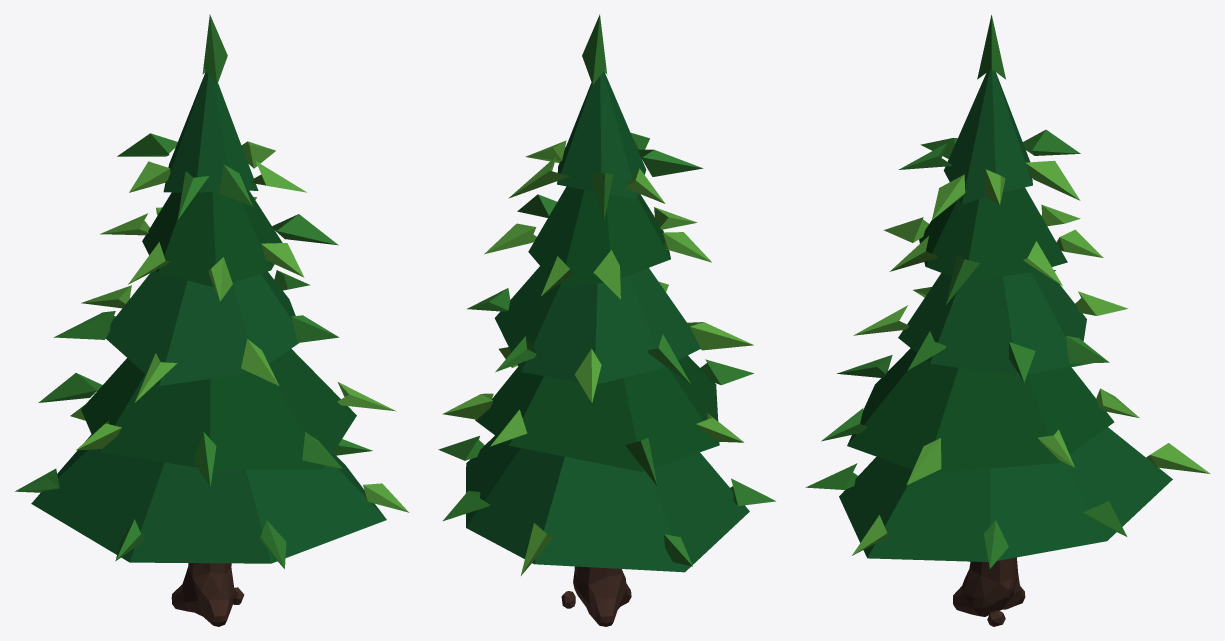
The model's file is pine_a.gltf.
3 renders of one model, left to right at view 1: azimuth 30°, elevation 25°; view 2: azimuth 150°, elevation 25°; view 3: azimuth 270°, elevation 25°, orthographic.
Visible parts, largest first — view 1: pine_a; view 2: pine_a; view 3: pine_a.
Boxes of the visible parts, <box> form: pine_a: <box>15,14,409,626</box>; pine_a: <box>438,14,775,626</box>; pine_a: <box>805,15,1210,626</box>.
Size of the model in its own units: 1.71 by 3.18 by 1.95.
